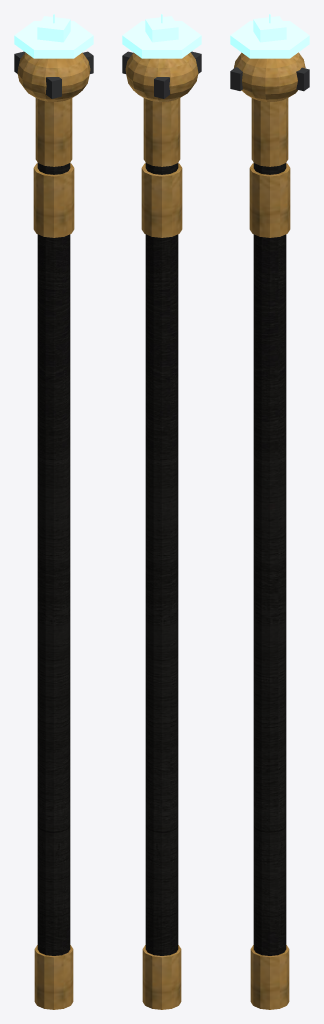
File: focus_sigil_cane.glb
The picture shows the model from 3 angles, left to right: view 1: azimuth 30°, elevation 25°; view 2: azimuth 150°, elevation 25°; view 3: azimuth 330°, elevation 25°; orthographic projection.
Parts seen in each view (by area): view 1: focus_sigil_cane; view 2: focus_sigil_cane; view 3: focus_sigil_cane.
Boxes of the visible parts, x1,y1,x2,y2 form: focus_sigil_cane: [14, 14, 93, 1009]; focus_sigil_cane: [122, 14, 201, 1009]; focus_sigil_cane: [230, 14, 309, 1009].
Bounding box in the file's own units: 0.082 × 1.13 × 0.082.
Materials: 4 (3 with a texture image).
